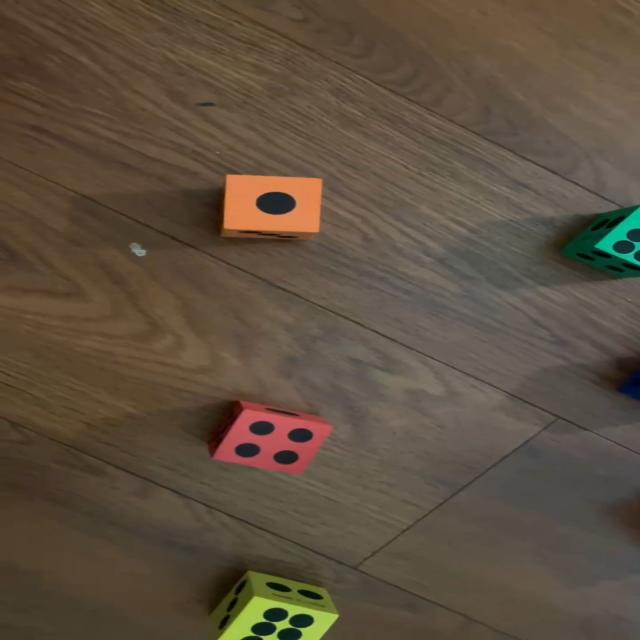red_block: (208, 401, 333, 475)
